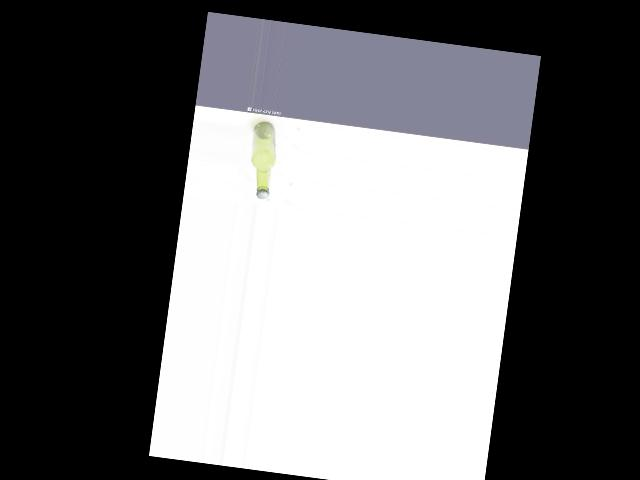beer: (245, 120, 279, 200)
